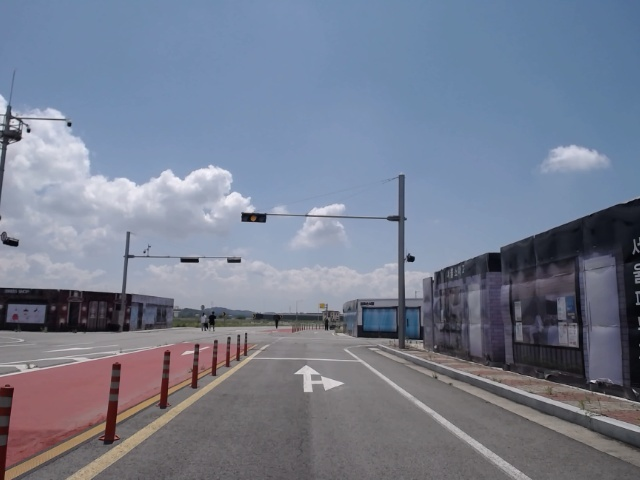orange_3: (242, 213, 267, 222)
